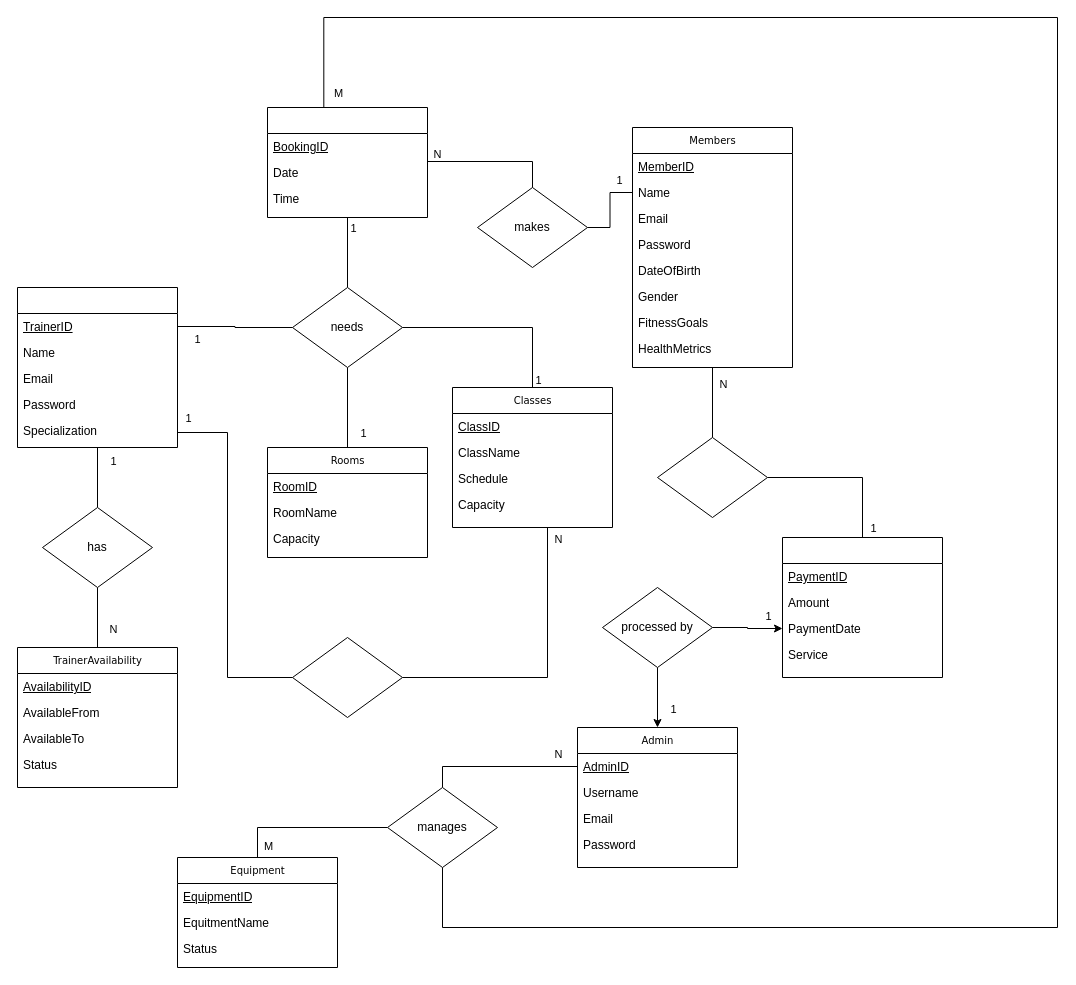
This 1076x985 diagram has some shape labels left out. Here are the shapes that lost their labels. From the top down, the box of each, then its label:
(266, 106, 428, 218): Bookings
(16, 286, 178, 448): Trainers
(656, 436, 768, 518): do
(782, 536, 942, 678): Payments
(292, 636, 402, 718): held by
